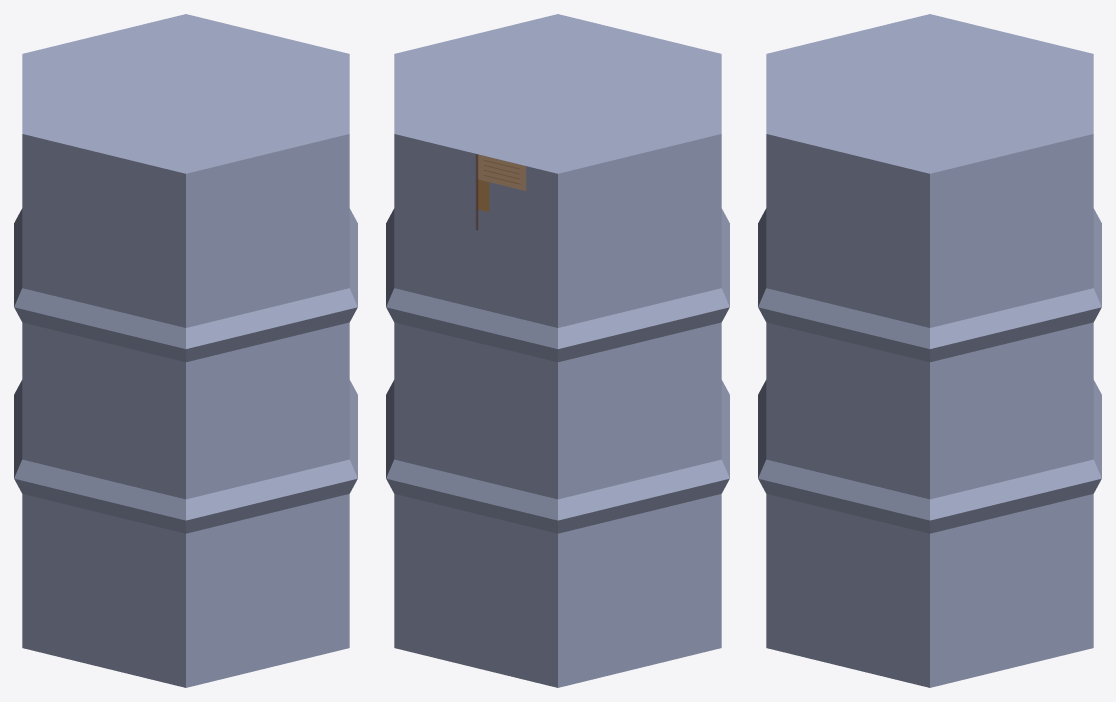
File: barrel_oil.FBX
3 renders of one model, left to right at view 1: azimuth 30°, elevation 25°; view 2: azimuth 150°, elevation 25°; view 3: azimuth 270°, elevation 25°, orthographic.
Parts seen in each view (by area): view 1: barrel_oil; view 2: barrel_oil; view 3: barrel_oil.
Part boxes in pixels (x1,y1,x2,y2): barrel_oil: (14, 14, 357, 687); barrel_oil: (386, 14, 729, 687); barrel_oil: (758, 14, 1101, 687).
Size of the model in its own units: 84 by 120 by 72.75.
